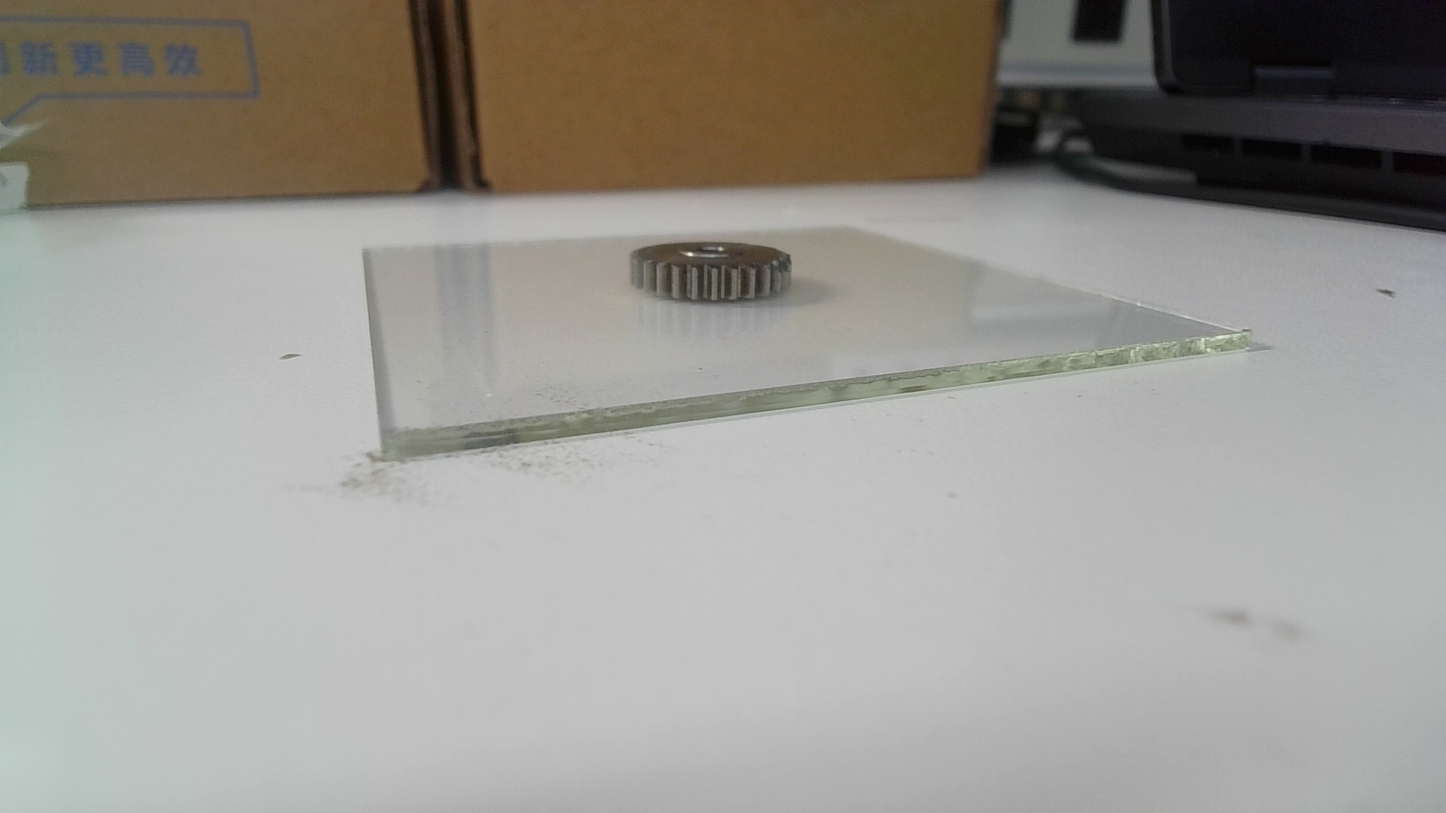gear: (627, 239, 798, 307)
